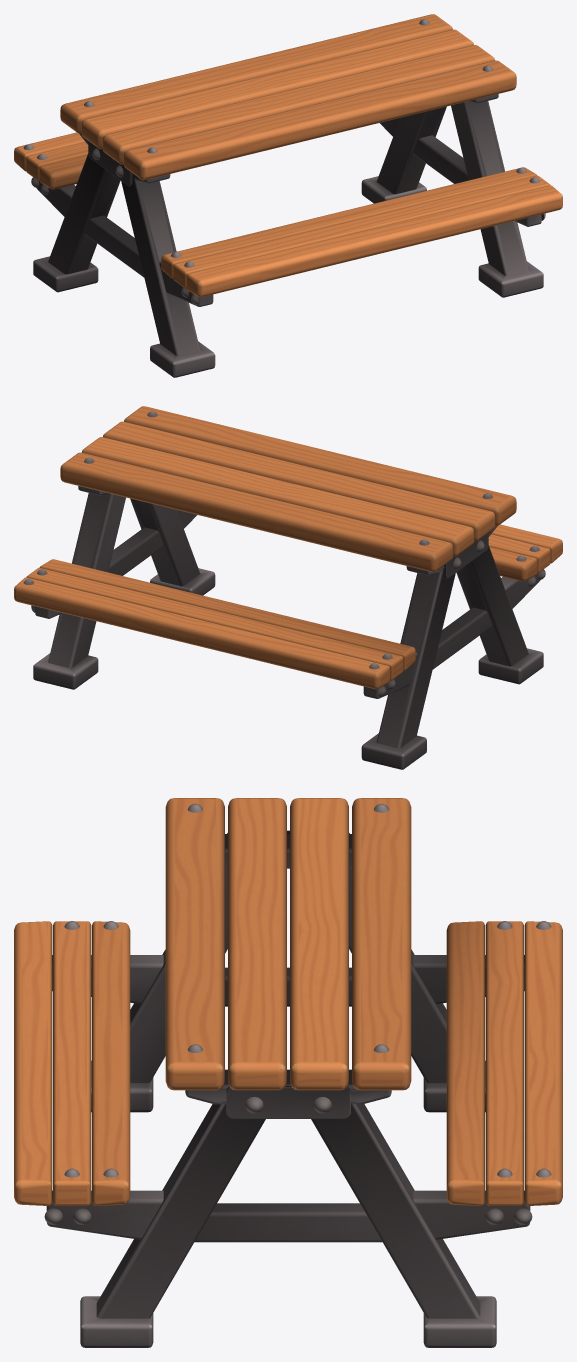
Rendered from houdini_picnic_table.glb.
The picture shows the model from 3 angles, top to bottom: view 1: azimuth 30°, elevation 25°; view 2: azimuth 150°, elevation 25°; view 3: azimuth 270°, elevation 25°; orthographic projection. The views are drawn at different scales.
Visible parts, largest first — view 1: LOD0; view 2: LOD0; view 3: LOD0.
Boxes of the visible parts, x1,y1,x2,y2 form: LOD0: (14,14,562,377); LOD0: (14,406,562,769); LOD0: (14,798,562,1347).
Size of what is drawn, in the model's own units: 1.8 by 0.905 by 1.54.
2 materials, 2 textured.
